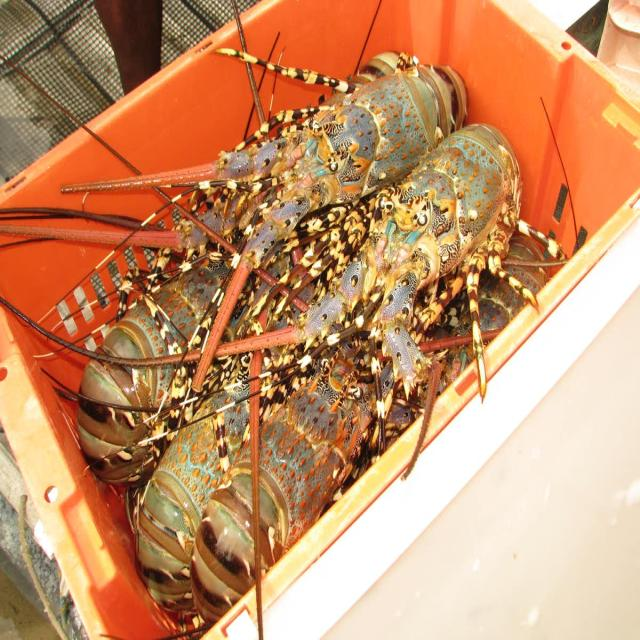Lobster: (69, 52, 568, 627)
